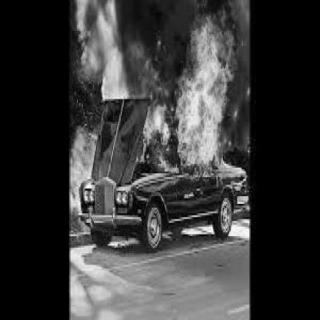Fire: (92, 35, 234, 189), (188, 1, 228, 48)
